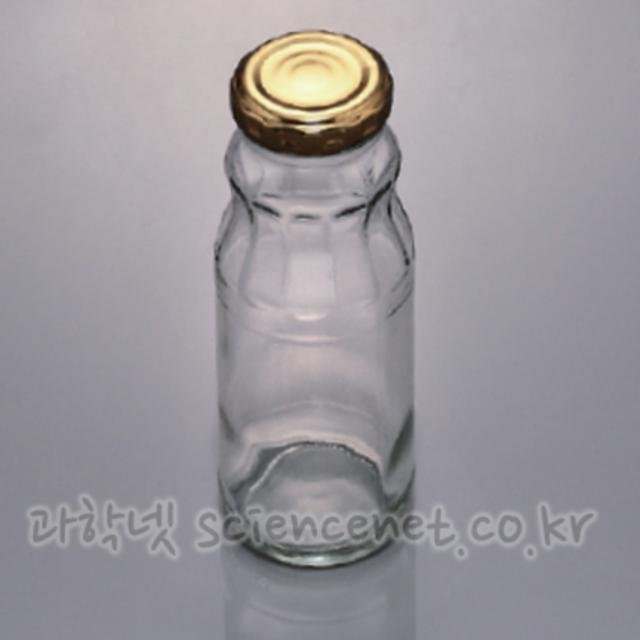recyclable: (206, 121, 427, 574)
